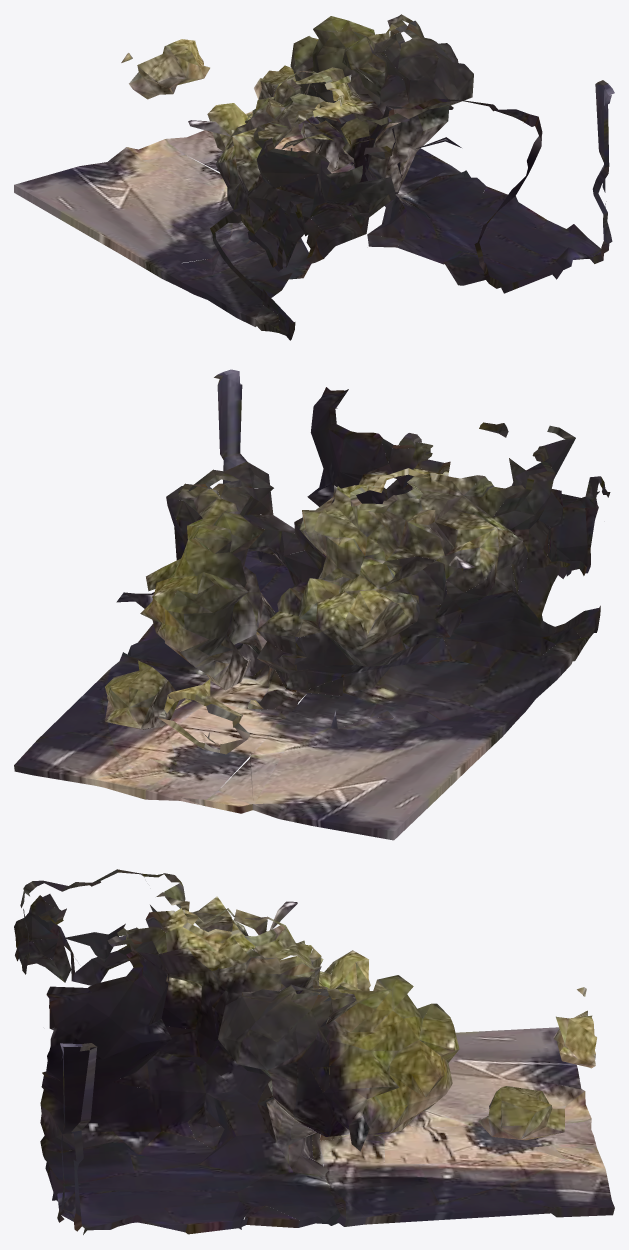
3 renders of one model, top to bottom at view 1: azimuth 30°, elevation 25°; view 2: azimuth 150°, elevation 25°; view 3: azimuth 270°, elevation 25°, orthographic. The views are drawn at different scales.
Parts seen in each view (by area): view 1: Mesh_0; view 2: Mesh_0; view 3: Mesh_0.
Boxes of the visible parts, <box> form: Mesh_0: <box>14,14,614,340</box>; Mesh_0: <box>14,369,610,840</box>; Mesh_0: <box>14,869,614,1234</box>.
Size of the model in its own units: 33.59 by 15.61 by 41.4.
Materials: 2 (2 with a texture image).
